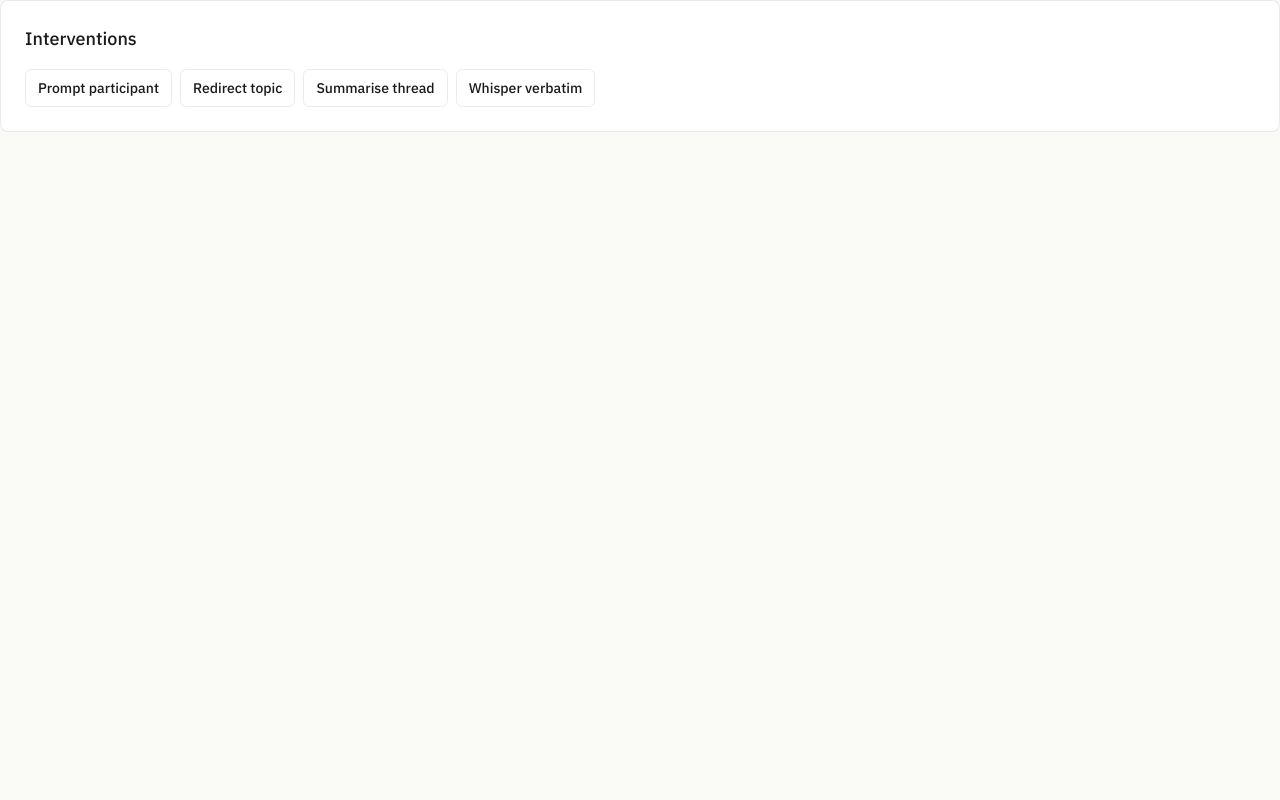
Test: <InterventionModals /> — force_prompt › closes the dialog after a successful submit
Click the button "Prompt participant": (98, 88) [25,69,172,107]
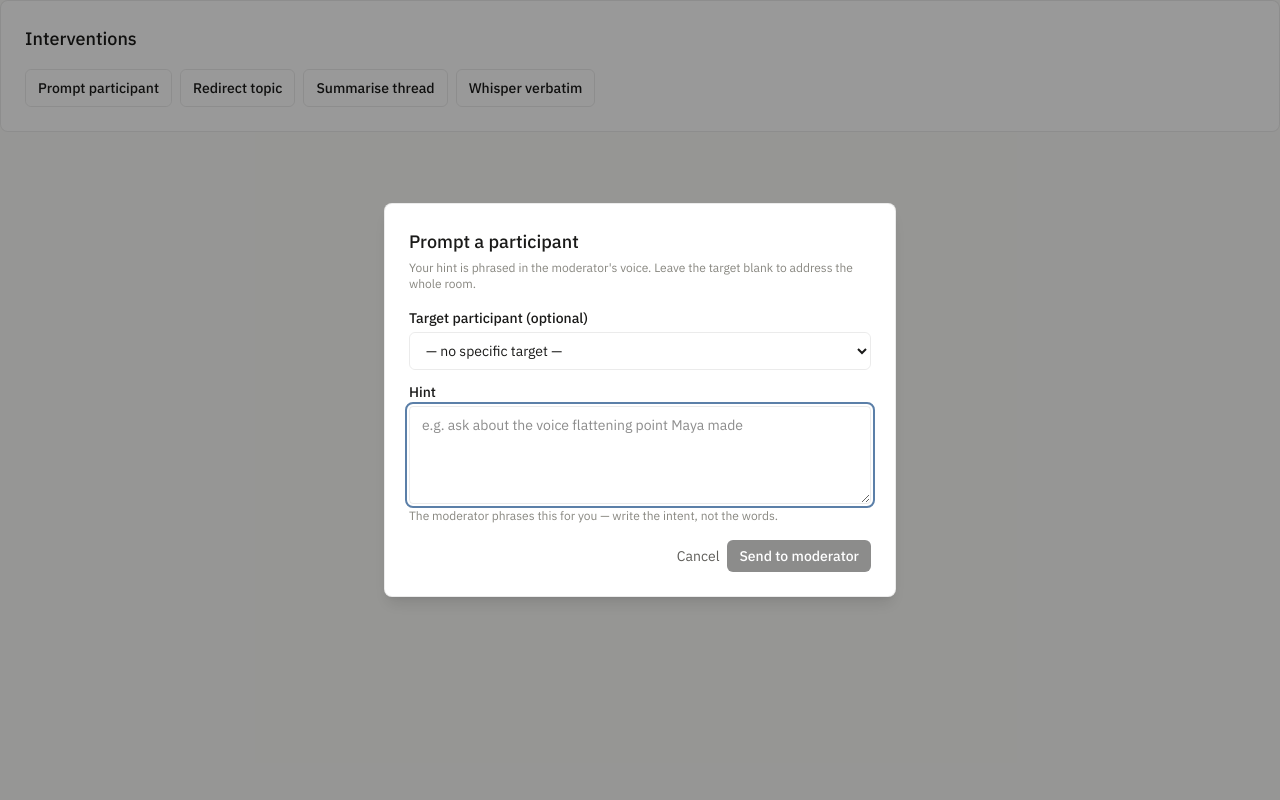
Expected: the dialog is shown, [384,203,896,597]
In the text box labelled "Hint": (640, 455) [409,406,871,504], type "hi"
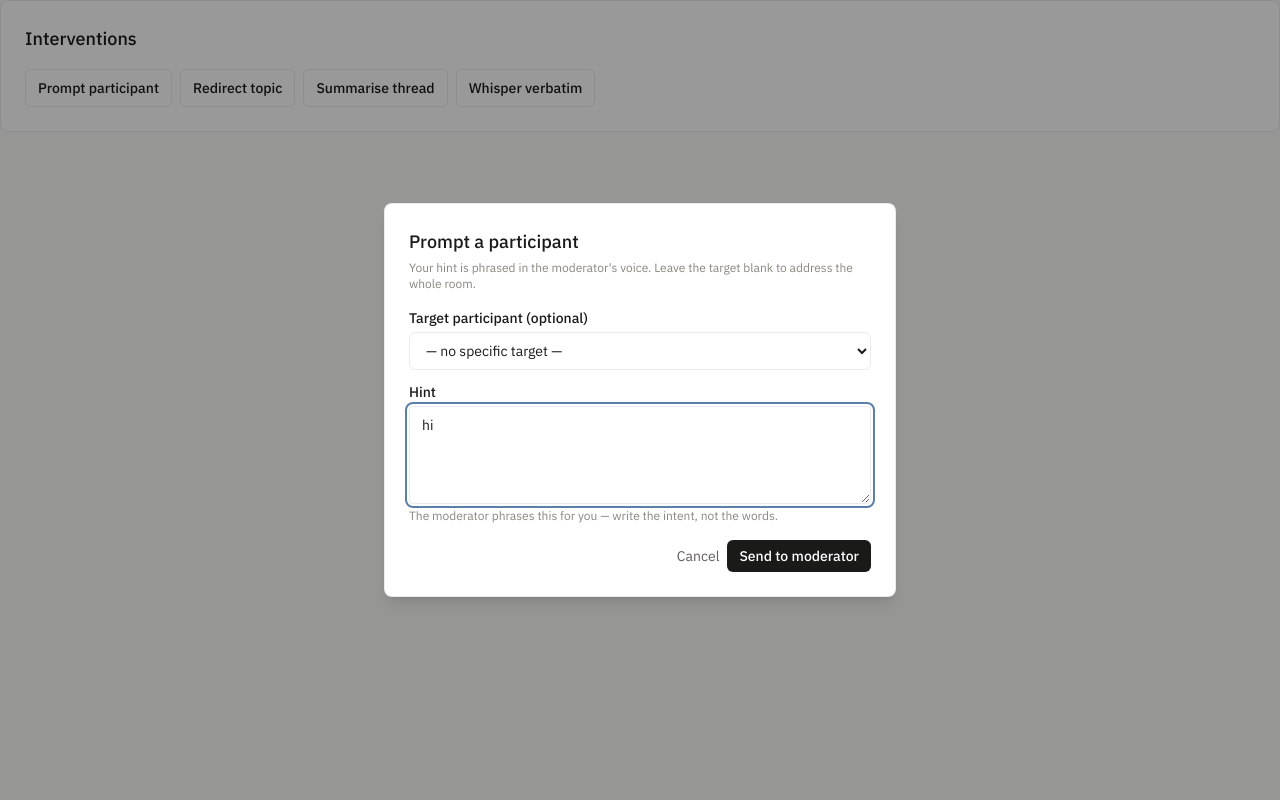
Click the button "Send to moderator": (799, 556) [727,540,871,572]
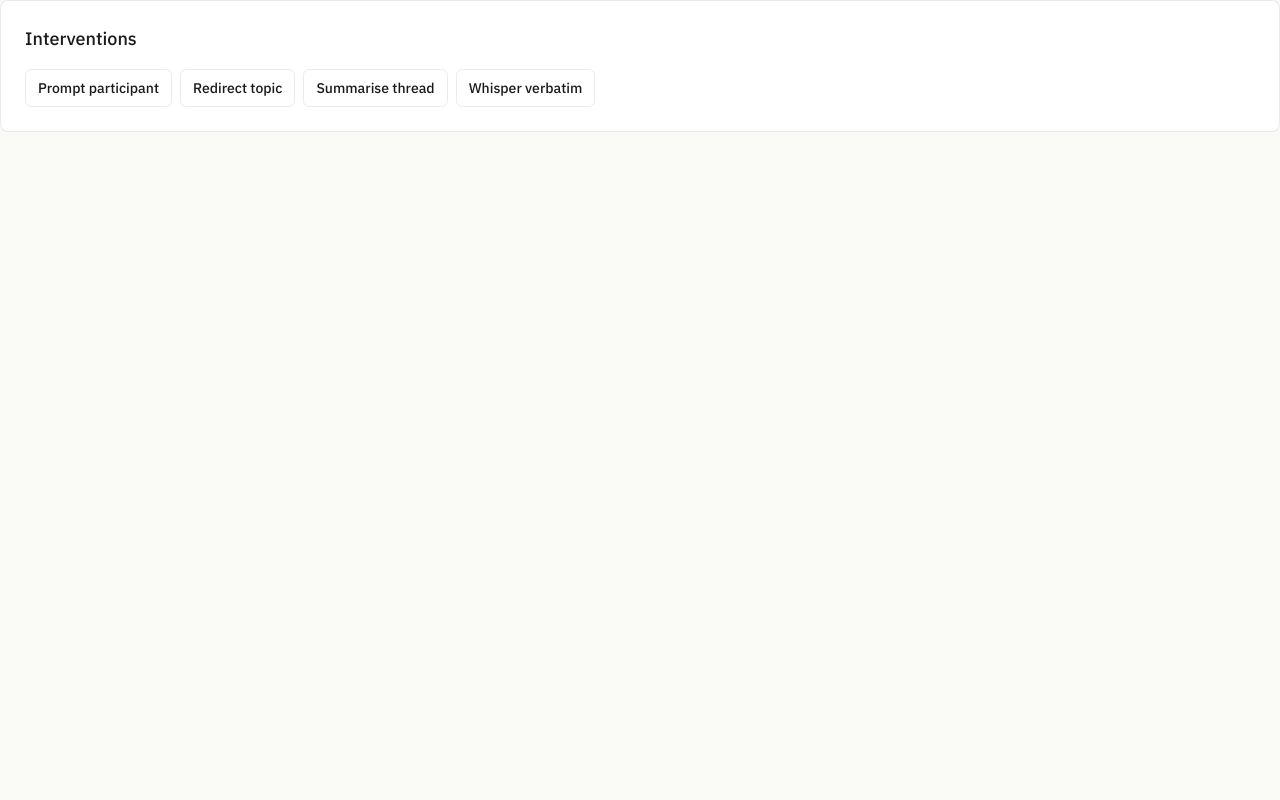
Expected: the dialog is gone
